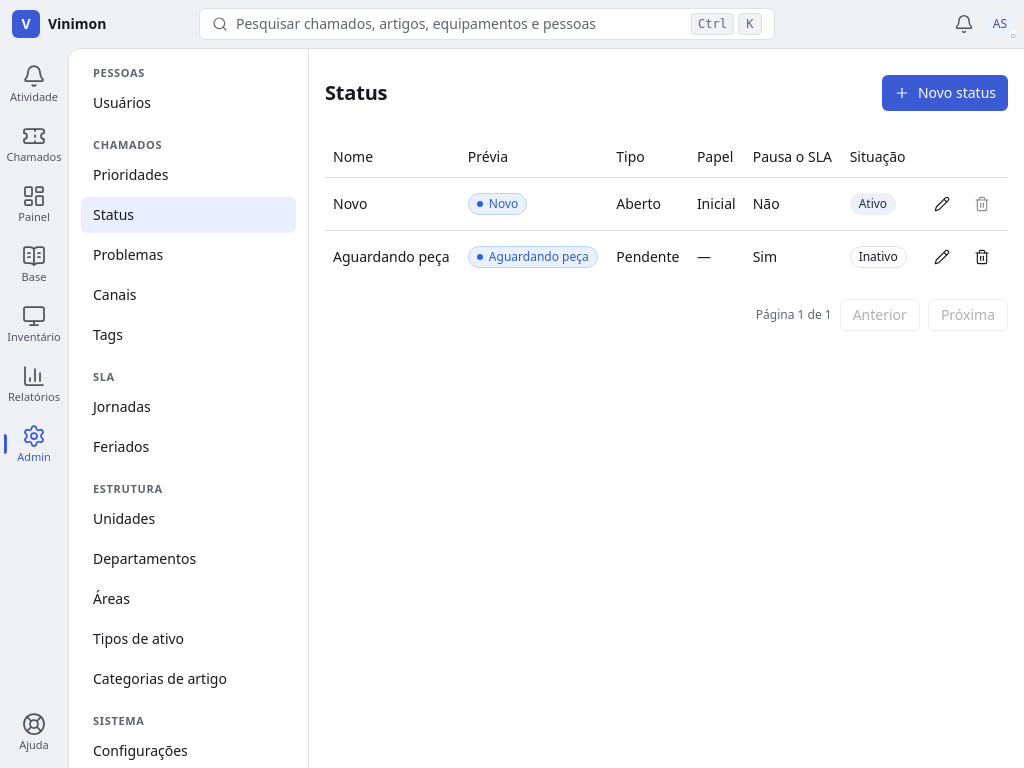
Test: /admin/status › 409 ao excluir mostra a mensagem do servidor
The width and height of the screenshot is (1024, 768).
Click the button named "Excluir Aguardando peça".
click(982, 256)  # box x1=964 y1=238 x2=1000 y2=274
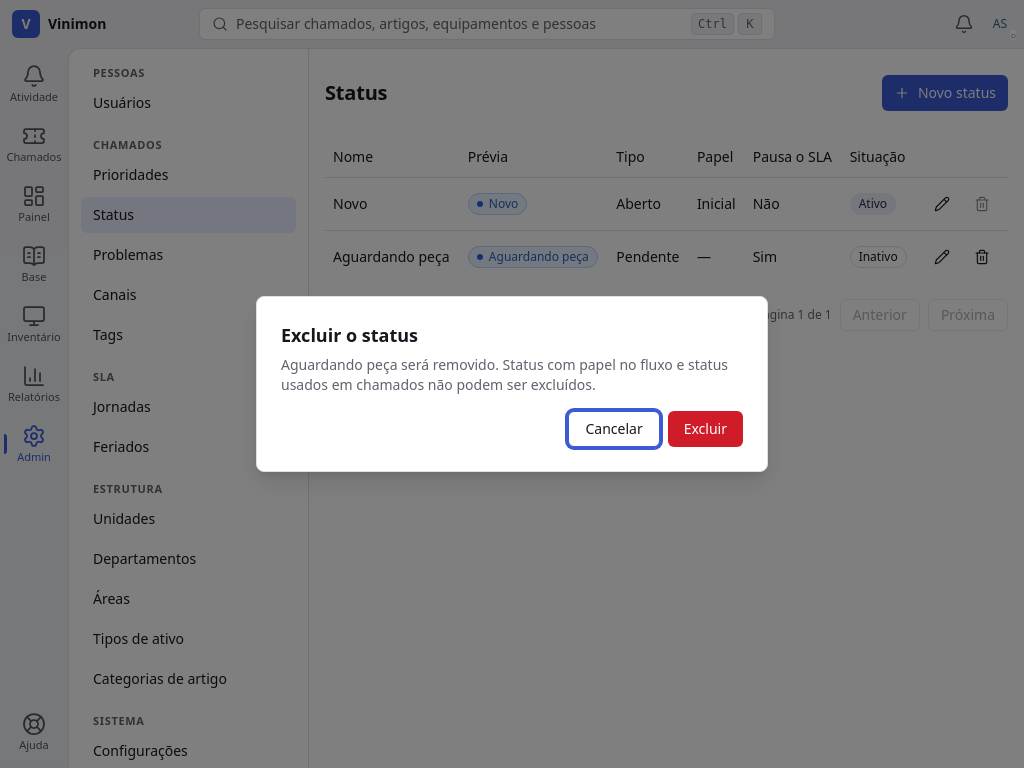
Click the button "Excluir".
click(705, 429)  # box x1=668 y1=411 x2=743 y2=447
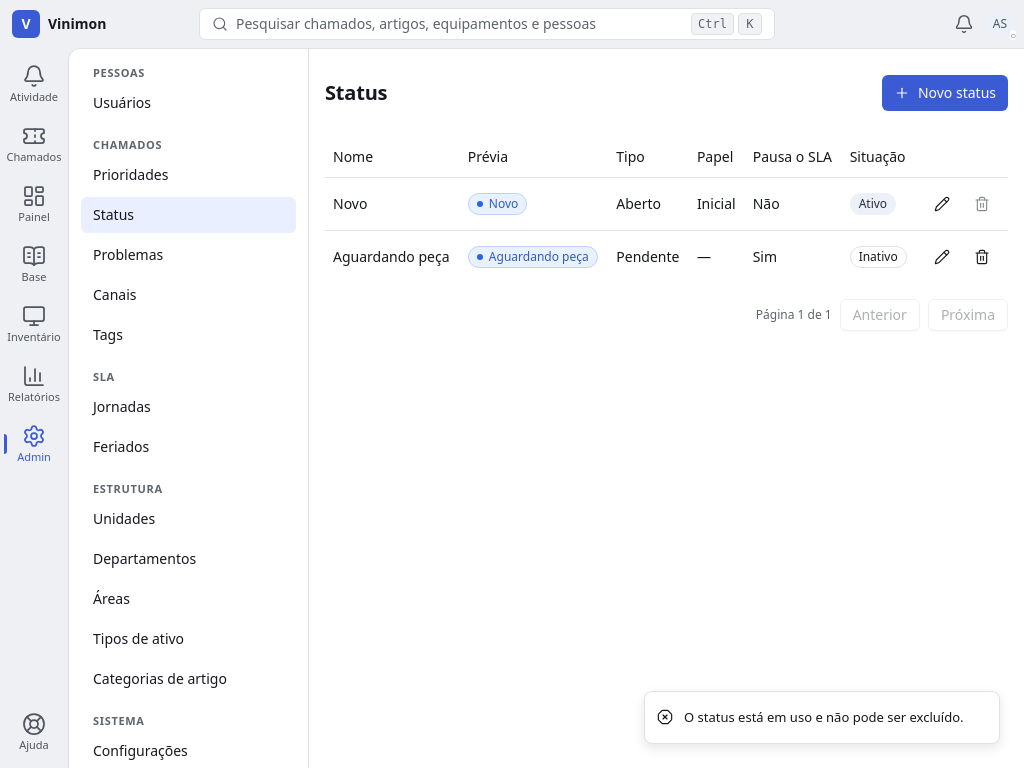
Result: the text "O status está em uso e não pode ser excluído." is shown at x1=684 y1=708 x2=964 y2=727
